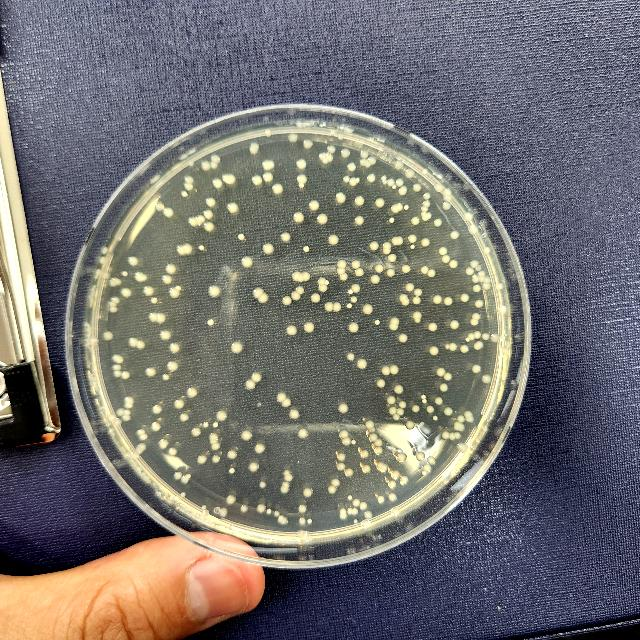colony: (241, 256, 253, 268), (272, 182, 284, 194), (231, 342, 243, 354), (209, 285, 221, 297), (261, 160, 275, 170), (222, 174, 236, 184), (262, 243, 274, 254), (316, 213, 328, 224), (328, 234, 338, 246), (252, 288, 264, 298), (258, 293, 270, 303), (336, 192, 346, 204), (254, 443, 266, 453), (309, 200, 319, 212), (167, 361, 179, 371), (128, 256, 138, 268), (112, 354, 124, 364), (298, 428, 308, 439), (203, 222, 214, 232), (121, 288, 132, 298), (150, 173, 160, 184), (281, 232, 291, 242), (291, 291, 301, 301), (311, 293, 321, 303), (324, 302, 334, 312), (332, 302, 342, 312), (363, 304, 373, 314), (349, 323, 359, 333), (370, 274, 380, 284), (287, 325, 297, 335), (304, 322, 314, 332), (376, 378, 386, 388), (357, 359, 367, 369), (281, 398, 291, 408), (397, 452, 407, 462), (284, 472, 294, 482), (226, 495, 236, 505), (388, 492, 398, 502), (394, 384, 404, 394), (428, 322, 438, 332), (482, 374, 492, 384), (458, 443, 468, 453), (394, 160, 404, 170), (300, 531, 310, 541), (218, 507, 228, 517), (249, 462, 259, 472), (242, 430, 252, 440), (294, 212, 304, 222), (296, 159, 306, 169), (303, 139, 313, 149), (263, 172, 273, 182), (228, 203, 238, 213), (251, 373, 261, 383), (245, 380, 255, 390), (217, 411, 227, 421), (187, 387, 197, 397), (204, 210, 214, 220), (212, 178, 222, 188), (164, 208, 174, 218), (166, 264, 176, 274), (162, 275, 172, 285), (170, 288, 180, 298), (160, 330, 170, 340), (144, 286, 154, 296), (134, 271, 144, 281), (103, 331, 113, 341), (398, 333, 408, 342), (389, 364, 398, 374), (382, 366, 391, 376), (338, 403, 348, 412), (289, 409, 299, 418), (303, 488, 313, 497), (298, 503, 308, 512), (256, 503, 266, 512), (443, 406, 452, 416), (436, 368, 446, 377), (429, 346, 438, 356), (474, 342, 484, 351), (472, 364, 481, 374), (490, 333, 500, 342), (449, 320, 458, 330), (443, 296, 452, 306), (498, 305, 507, 315), (438, 247, 448, 256), (449, 230, 458, 240), (398, 187, 408, 196), (348, 162, 357, 172), (342, 148, 351, 158), (227, 449, 237, 458), (174, 399, 184, 408), (177, 246, 186, 256), (146, 368, 156, 377), (170, 343, 180, 352), (128, 338, 138, 347), (160, 438, 168, 449), (206, 198, 217, 206), (184, 243, 192, 254), (339, 429, 348, 438), (282, 296, 292, 304), (292, 271, 300, 281), (303, 272, 311, 282), (318, 284, 328, 292), (374, 264, 384, 272), (354, 268, 364, 276), (342, 437, 352, 445), (344, 468, 354, 476), (362, 464, 372, 472), (374, 438, 384, 446), (330, 478, 340, 486), (280, 486, 290, 494), (361, 520, 371, 528), (386, 396, 396, 404), (432, 296, 442, 304), (460, 294, 470, 302), (442, 202, 452, 210), (464, 212, 474, 220), (468, 226, 478, 234), (448, 260, 458, 268), (386, 269, 396, 277), (376, 198, 384, 208), (476, 270, 486, 278), (416, 452, 426, 460), (426, 456, 436, 464), (406, 168, 414, 178), (412, 184, 422, 192), (434, 184, 444, 192), (442, 188, 452, 196), (356, 196, 364, 206), (288, 134, 298, 142), (252, 176, 262, 184), (248, 146, 258, 154), (197, 456, 207, 464), (212, 454, 220, 464), (181, 474, 189, 484), (152, 422, 160, 432), (152, 405, 162, 413), (212, 154, 220, 164), (183, 182, 193, 190), (158, 313, 166, 323), (148, 313, 158, 321), (109, 277, 117, 287), (110, 296, 120, 304), (136, 340, 146, 348), (155, 203, 165, 211), (90, 336, 98, 346), (352, 284, 361, 292), (352, 260, 361, 268), (338, 260, 347, 268), (278, 393, 286, 402), (338, 453, 347, 461), (359, 502, 367, 511), (459, 345, 468, 353), (413, 288, 422, 296), (442, 255, 451, 263), (428, 269, 437, 277), (422, 239, 431, 247), (409, 234, 417, 243), (388, 254, 397, 262), (369, 242, 378, 250), (391, 204, 399, 213), (349, 178, 358, 186), (368, 157, 376, 166), (392, 508, 401, 516), (298, 174, 306, 183), (192, 428, 200, 437), (184, 176, 193, 184), (125, 396, 134, 404), (296, 286, 304, 294), (350, 296, 358, 304), (340, 273, 348, 281), (337, 462, 345, 470), (361, 450, 369, 458), (366, 421, 374, 429), (370, 434, 378, 442), (377, 495, 385, 503), (328, 486, 336, 494), (298, 517, 306, 525), (241, 504, 249, 512), (364, 511, 372, 519), (388, 480, 396, 488), (406, 421, 414, 429), (412, 405, 420, 413), (440, 384, 448, 392), (444, 372, 452, 380), (449, 343, 457, 351), (472, 312, 480, 320), (475, 300, 483, 308), (413, 297, 421, 305), (406, 284, 414, 292), (473, 284, 481, 292), (421, 266, 429, 274), (434, 218, 442, 226), (411, 217, 419, 225), (471, 260, 479, 268), (466, 267, 474, 275), (472, 275, 480, 283), (402, 265, 410, 273), (355, 216, 363, 224), (423, 200, 431, 208), (474, 264, 482, 272), (482, 282, 490, 290), (443, 194, 451, 202), (396, 178, 404, 186), (367, 174, 375, 182), (360, 150, 368, 158), (423, 463, 431, 471), (380, 463, 388, 471), (391, 471, 399, 479), (281, 517, 289, 525), (399, 294, 407, 302), (402, 298, 410, 306), (327, 146, 335, 154), (318, 152, 326, 160), (210, 432, 218, 440), (212, 442, 220, 450), (174, 472, 182, 480), (169, 447, 177, 455), (180, 414, 188, 422), (210, 161, 218, 169), (202, 162, 210, 170), (188, 218, 196, 226), (197, 214, 205, 222), (162, 373, 170, 381), (138, 442, 146, 450), (114, 418, 122, 426), (117, 408, 125, 416), (122, 371, 130, 379), (114, 370, 122, 378), (131, 451, 139, 459), (100, 256, 108, 264), (103, 271, 111, 279), (336, 268, 346, 274), (390, 318, 400, 324), (412, 312, 422, 318), (326, 152, 332, 162), (250, 142, 260, 148), (138, 434, 148, 440), (196, 216, 202, 226), (459, 422, 465, 432), (352, 499, 360, 506), (392, 414, 400, 421), (474, 331, 481, 339), (482, 334, 490, 341), (484, 246, 491, 254), (424, 192, 431, 200), (108, 414, 115, 422), (130, 459, 138, 466), (389, 324, 398, 330), (125, 402, 134, 408), (208, 319, 215, 326), (298, 274, 304, 282), (318, 278, 326, 284), (348, 353, 354, 361), (375, 448, 383, 454), (282, 482, 290, 488), (352, 507, 358, 515), (340, 513, 348, 519), (398, 402, 406, 408), (389, 408, 397, 414), (398, 408, 404, 416), (436, 397, 442, 405), (426, 406, 434, 412), (470, 319, 478, 325), (496, 282, 502, 290), (383, 242, 391, 248), (383, 248, 391, 254), (392, 237, 398, 245), (397, 236, 403, 244), (483, 276, 491, 282), (464, 411, 472, 417), (466, 417, 474, 423), (442, 431, 448, 439), (449, 432, 455, 440), (454, 432, 462, 438), (358, 160, 366, 166), (365, 160, 371, 168), (377, 462, 383, 470), (265, 130, 271, 138), (137, 429, 145, 435), (203, 509, 209, 517), (180, 191, 188, 197), (122, 415, 130, 421), (116, 278, 122, 286), (110, 307, 118, 313), (113, 364, 121, 370), (102, 246, 108, 254), (96, 268, 102, 276), (188, 148, 196, 154), (180, 154, 188, 160), (303, 245, 309, 252), (339, 508, 346, 514), (397, 203, 403, 210), (388, 180, 394, 187), (238, 234, 245, 240), (274, 511, 280, 517), (266, 508, 272, 514), (260, 482, 266, 488), (468, 334, 474, 340), (422, 206, 428, 212), (479, 276, 485, 282), (458, 416, 464, 422), (422, 168, 428, 174), (382, 180, 388, 186), (344, 176, 350, 182), (402, 476, 408, 482), (296, 530, 302, 536), (229, 468, 235, 474), (322, 158, 328, 164), (212, 422, 218, 428), (180, 492, 186, 498), (203, 422, 209, 428), (188, 161, 194, 167), (136, 447, 142, 453), (125, 409, 131, 415), (151, 298, 157, 304), (122, 271, 128, 277), (136, 466, 142, 472), (338, 135, 344, 141), (426, 213, 432, 219), (422, 216, 428, 222), (482, 426, 488, 432), (256, 401, 262, 407), (368, 428, 376, 432), (348, 508, 352, 516), (502, 347, 506, 355), (210, 440, 218, 444), (143, 274, 147, 282), (109, 302, 117, 306), (325, 280, 329, 286), (346, 304, 352, 308), (348, 290, 354, 294), (374, 320, 380, 324), (348, 494, 352, 500), (308, 518, 312, 524), (284, 470, 290, 474), (432, 416, 438, 420), (445, 344, 449, 350), (415, 319, 421, 323), (410, 244, 414, 250), (404, 204, 408, 210), (400, 480, 404, 486), (278, 515, 284, 519), (278, 518, 282, 524), (298, 183, 304, 187), (202, 504, 206, 510), (186, 474, 192, 478), (198, 246, 204, 250), (330, 132, 336, 136), (454, 420, 458, 426), (351, 440, 355, 444), (354, 519, 358, 523), (421, 395, 425, 399), (422, 399, 426, 403), (466, 337, 470, 341), (390, 218, 394, 222), (392, 185, 396, 189), (382, 176, 386, 180), (356, 178, 360, 182), (422, 471, 426, 475), (176, 286, 180, 290), (422, 212, 426, 216), (454, 426, 458, 430), (94, 276, 100, 278)
